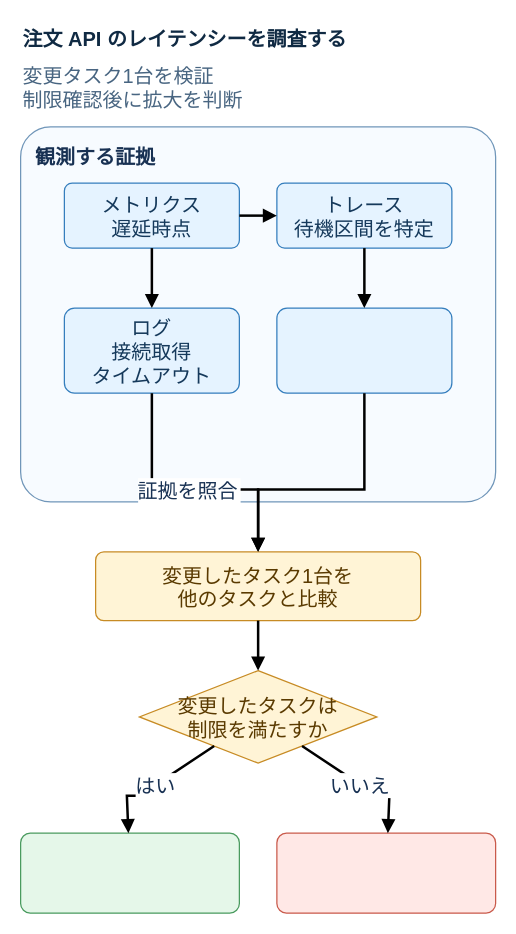
The diagram is 516 pixels wide and 934 high, and some of its shapes have lost their labels. The shapes that lost their labels are listed below. From the top down, each one's centre as x and y in pixels, then its label:
[364,350]: 設定 プール変更を確認
[129,872]: はい: 段階的に拡大 全体メトリクスを確認
[386,872]: いいえ: 停止 原因を調査
